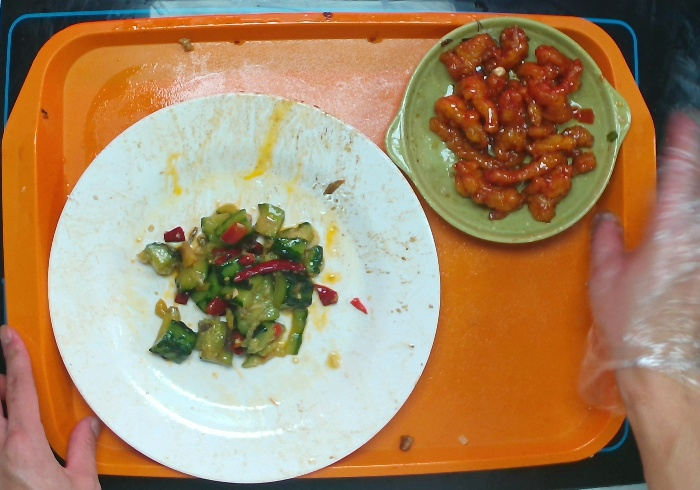NLDX-Da_Yuan_Pan: (45, 76, 448, 490)
NLDX-Lv_Hua_Shuang_Er_Die: (377, 13, 640, 252)
